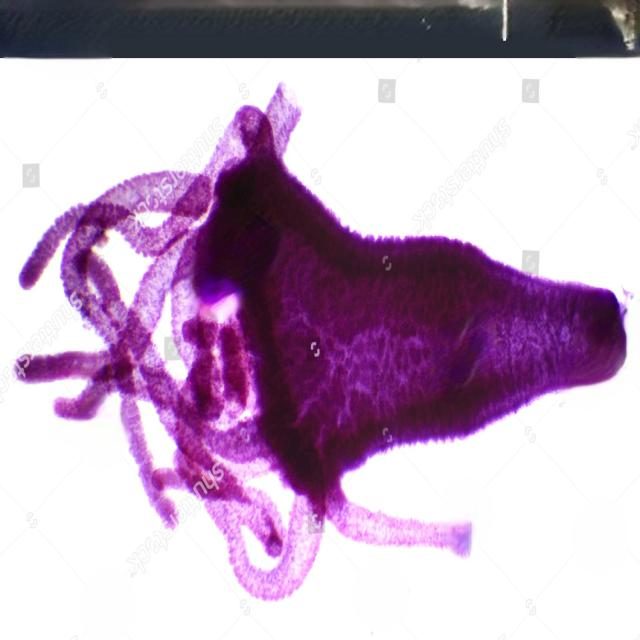Hydra: (13, 82, 629, 604)
